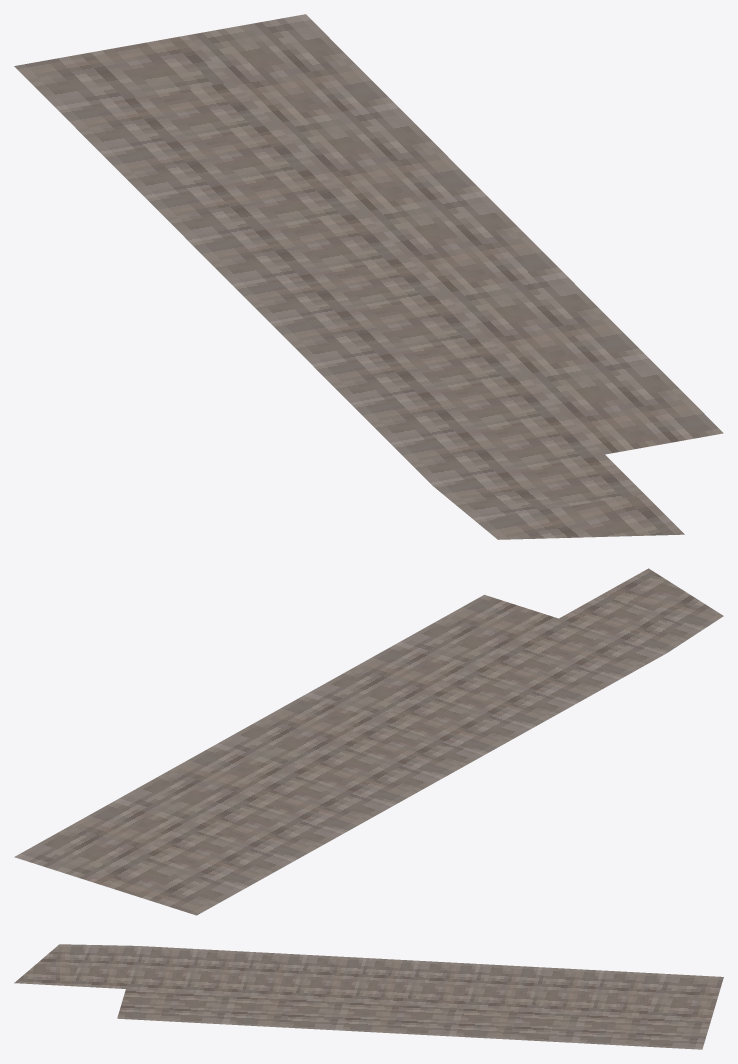
File: fort_colonnade_kings_footprint.fbx
3 renders of one model, top to bottom at view 1: azimuth 30°, elevation 25°; view 2: azimuth 150°, elevation 25°; view 3: azimuth 270°, elevation 25°, orthographic. The views are drawn at different scales.
Parts seen in each view (by area): view 1: footprint; view 2: footprint; view 3: footprint.
Part boxes in pixels (x1,y1,x2,y2): footprint: (14,14,723,539); footprint: (14,568,723,915); footprint: (14,944,723,1049).
Size of the model in its own units: 7632 by 0.00354 by 21704.
1 material, 1 textured.
